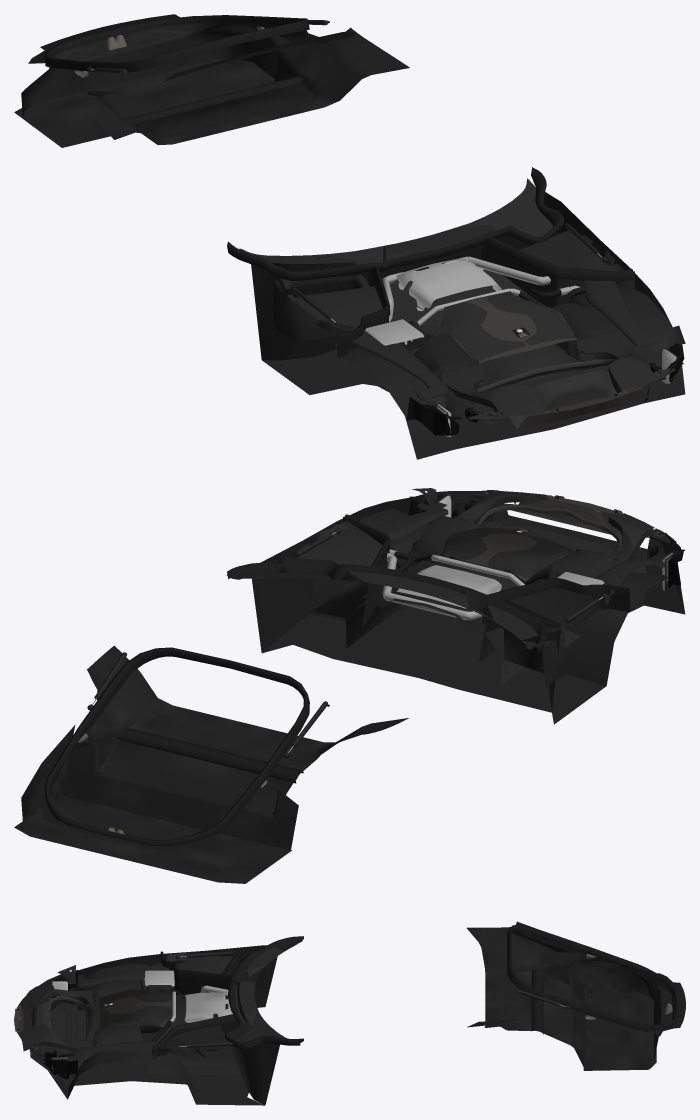
Rendered from amg3__M_Engine_Max.003_Engine_0.glb.
3 views of the same model, one above another, from view 1: azimuth 30°, elevation 25°; view 2: azimuth 150°, elevation 25°; view 3: azimuth 270°, elevation 25° (orthographic). The views are drawn at different scales.
Visible parts, largest first — view 1: amg3__M_Engine_Max.003_Engine_0; view 2: amg3__M_Engine_Max.003_Engine_0; view 3: amg3__M_Engine_Max.003_Engine_0.
Part boxes in pixels (<box>): amg3__M_Engine_Max.003_Engine_0: <box>14,14,685,459</box>; amg3__M_Engine_Max.003_Engine_0: <box>14,488,685,883</box>; amg3__M_Engine_Max.003_Engine_0: <box>14,921,685,1105</box>.
Bounding box in the file's own units: 1.86 × 0.9713 × 5.05.
Materials: 1 (1 with a texture image).
